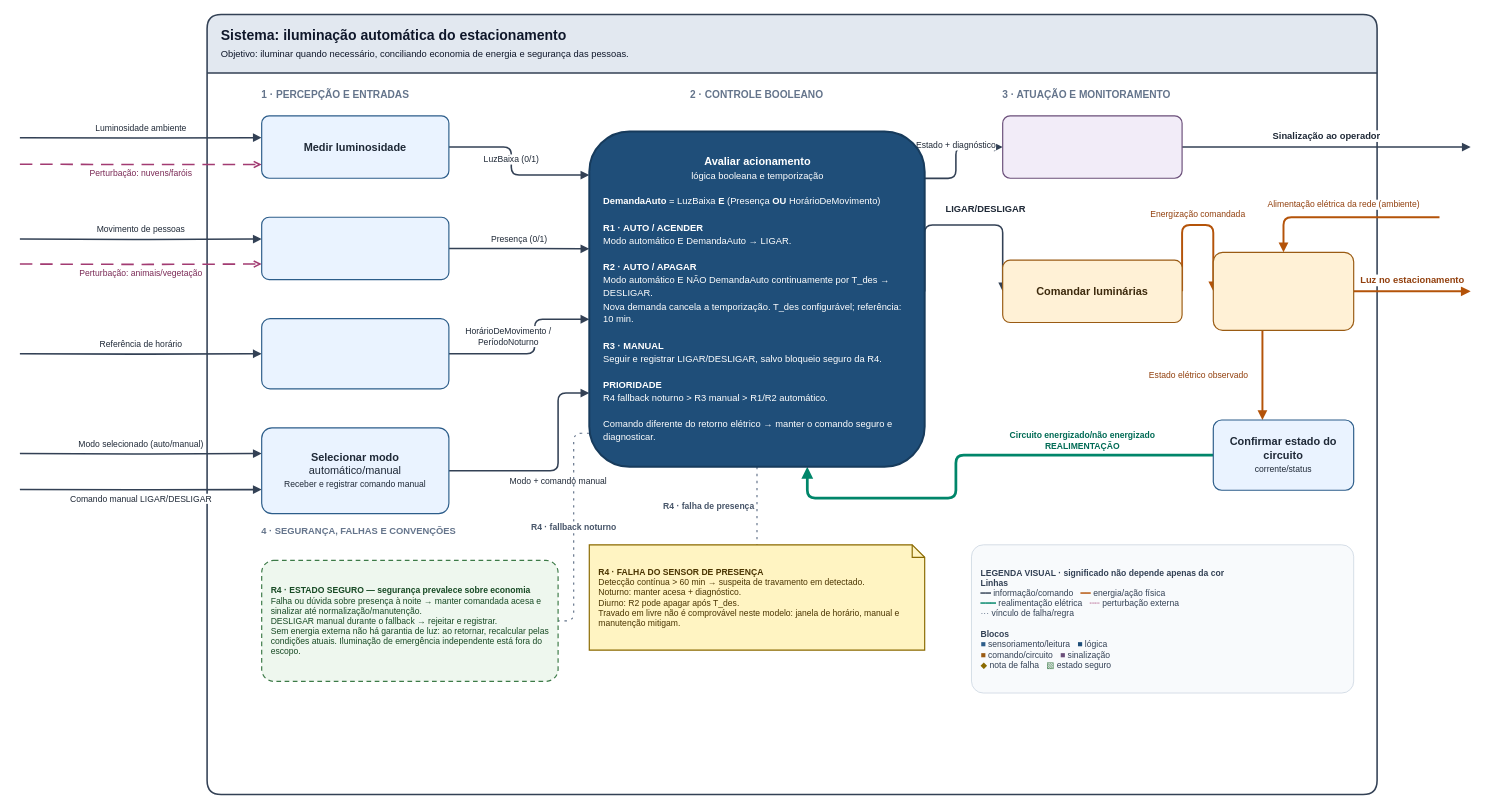
Image size: 1491x808. Some labels were removed from this diagram. Each missing label, with the box of its shape:
Detectar presença: (261, 216, 449, 280)
Ler horário Movimento: 06–08 / 17–19 Noturno: 19–06 (referências configuráveis): (261, 318, 449, 389)
Luminárias (circuito de iluminação): (1212, 251, 1354, 331)
Sinalizar estado e diagnóstico: (1002, 115, 1182, 178)
